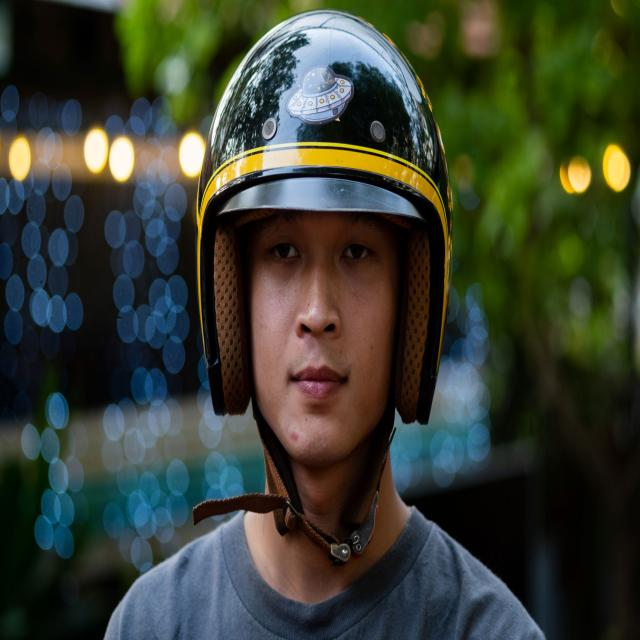helmet: (188, 2, 462, 573)
